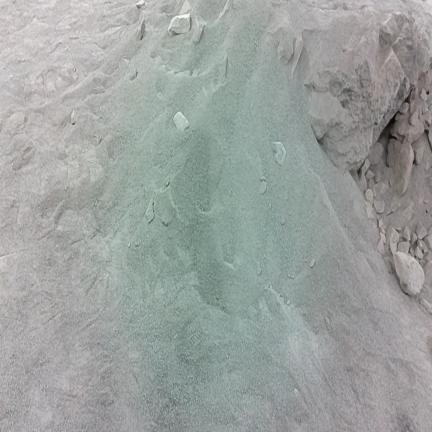Rock: (319, 13, 431, 170), (309, 92, 343, 139), (388, 140, 413, 195), (394, 252, 424, 295), (391, 111, 424, 143), (273, 20, 295, 64), (155, 187, 176, 226), (2, 112, 27, 137), (412, 133, 428, 164), (292, 34, 303, 78), (168, 14, 190, 36), (278, 39, 293, 63), (193, 18, 206, 45), (271, 142, 286, 165), (368, 141, 383, 164), (418, 69, 431, 94), (173, 111, 189, 131), (145, 193, 155, 223), (386, 196, 400, 215), (423, 261, 432, 290), (420, 106, 431, 129), (218, 0, 230, 19), (402, 202, 414, 221), (386, 226, 399, 243), (382, 167, 393, 186), (419, 298, 431, 315), (423, 145, 431, 170), (358, 172, 367, 193), (179, 0, 191, 15), (137, 18, 145, 40), (416, 223, 427, 239), (367, 179, 376, 197), (376, 182, 388, 195), (361, 158, 370, 174), (424, 229, 431, 249), (409, 111, 419, 125), (365, 189, 373, 206), (398, 242, 409, 254), (418, 240, 428, 253), (374, 200, 384, 213), (399, 102, 409, 114), (365, 202, 372, 218), (415, 246, 423, 259), (403, 227, 410, 241), (378, 238, 384, 254), (375, 170, 382, 183), (424, 250, 431, 263), (420, 89, 427, 101), (259, 182, 266, 194), (70, 110, 76, 124), (365, 170, 374, 179), (390, 243, 397, 254), (130, 69, 137, 80), (136, 0, 145, 8), (419, 258, 427, 267), (411, 233, 417, 244), (256, 263, 261, 275), (380, 223, 385, 234), (378, 219, 383, 229), (380, 233, 385, 243), (310, 258, 315, 267), (409, 247, 413, 257), (281, 217, 285, 225), (260, 176, 265, 181), (128, 243, 131, 247)
